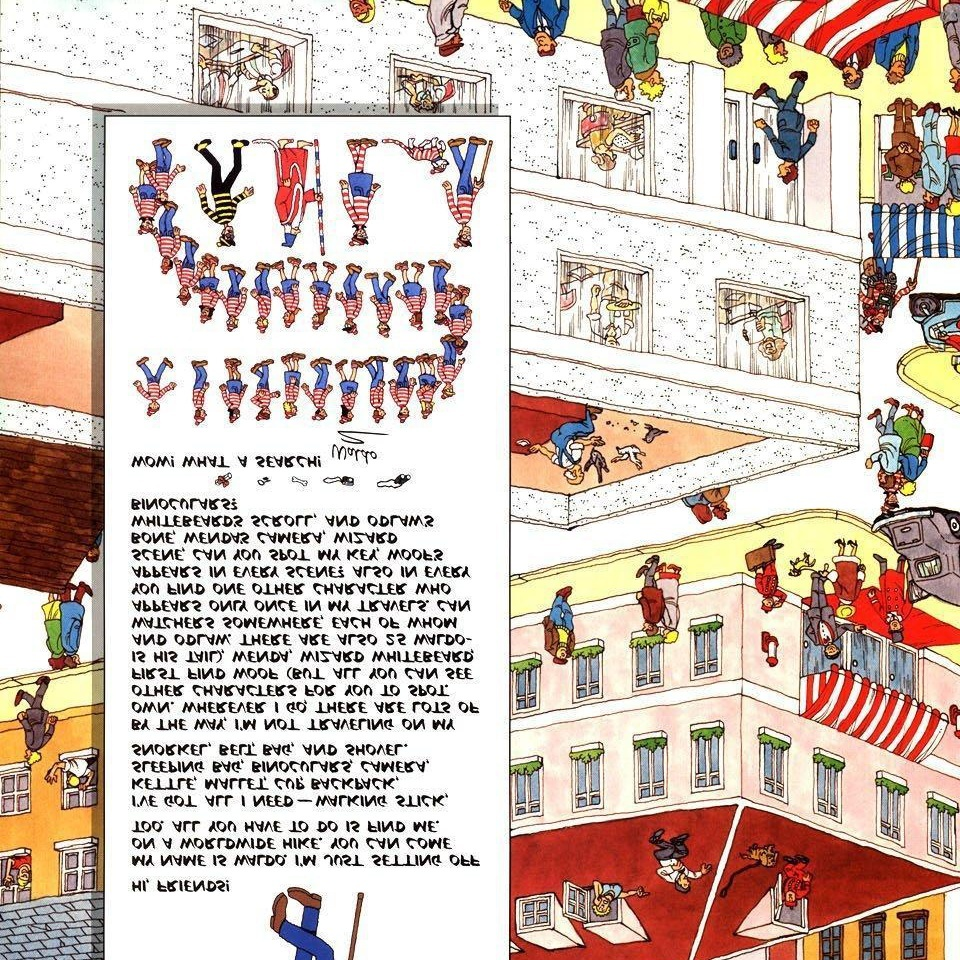waldo: (241, 882, 367, 960), (445, 132, 494, 252), (861, 260, 920, 336)
